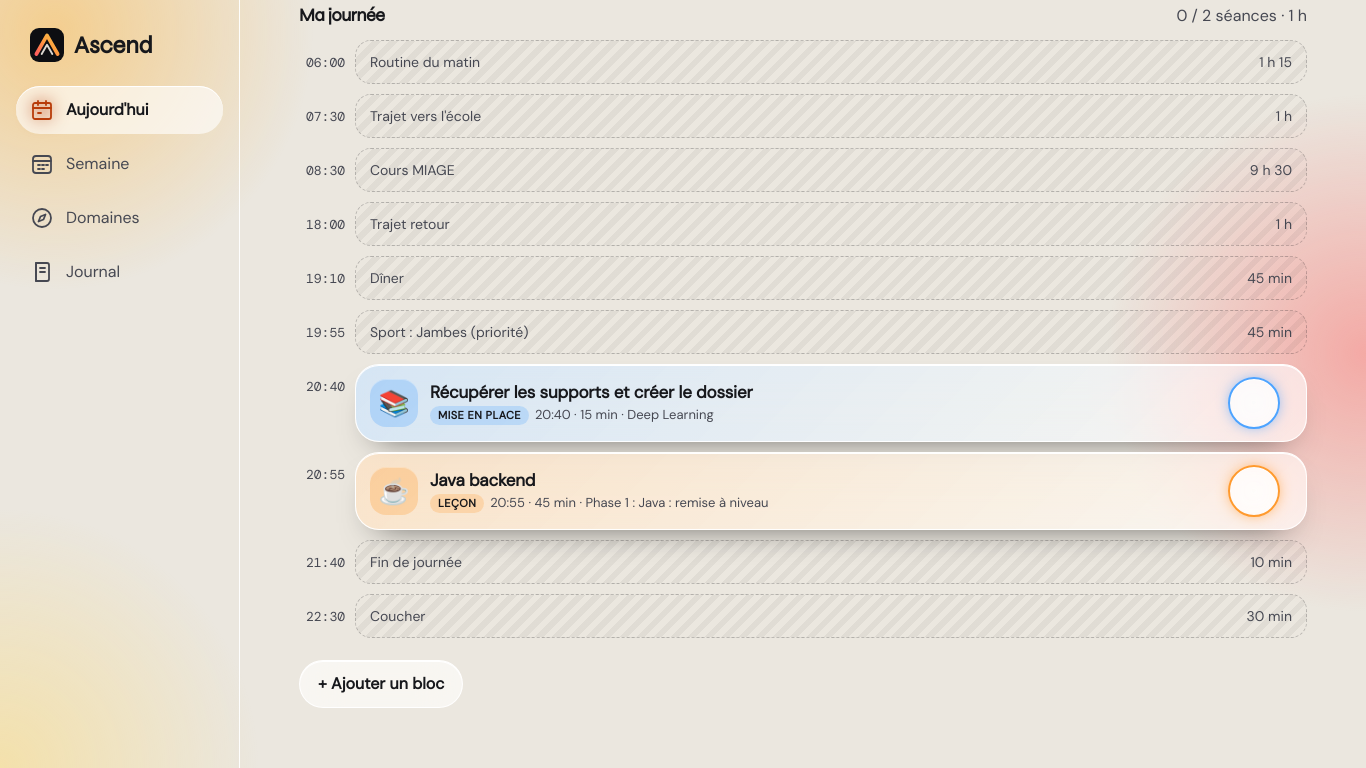
Test: cartes de verre : gestes › le bouton « Options » du détail ouvre le même menu (alternative sans geste)
The width and height of the screenshot is (1366, 768).
(page scrolled)
Click the button "Java backend". click: (483, 480)
box: left=430, top=466, right=1216, bottom=517
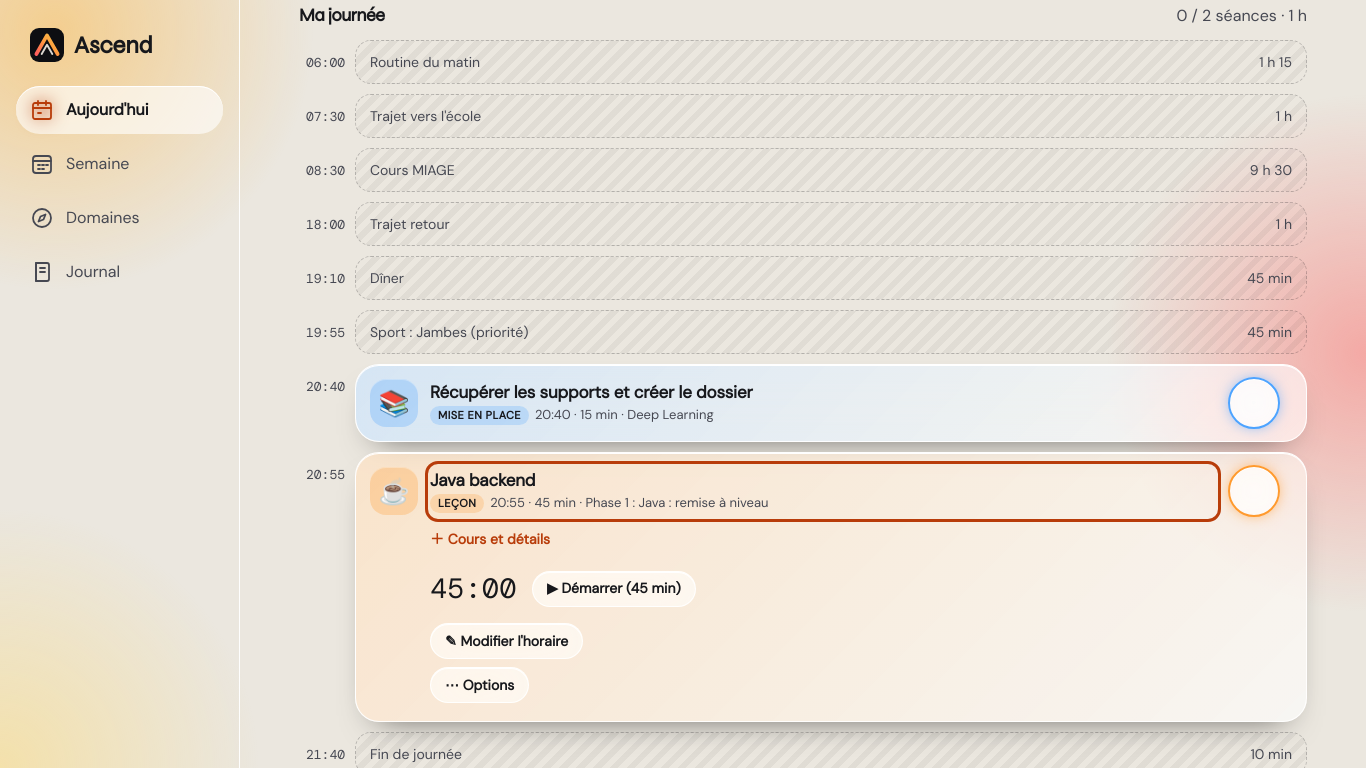
Click the button with aria-label "Options de Java backend". click: (480, 686)
box: left=430, top=668, right=529, bottom=704
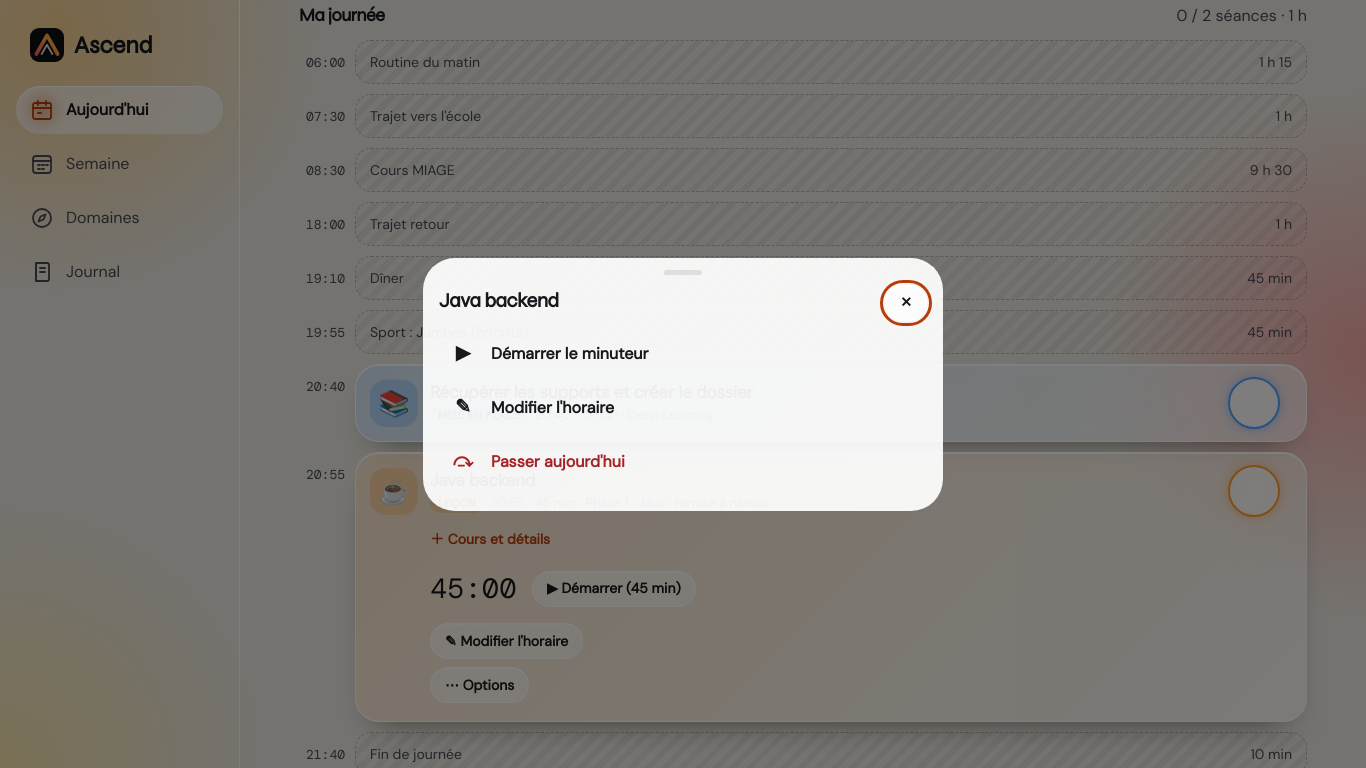
Check: the dialog "Java backend" is shown, box left=423, top=258, right=943, bottom=510
